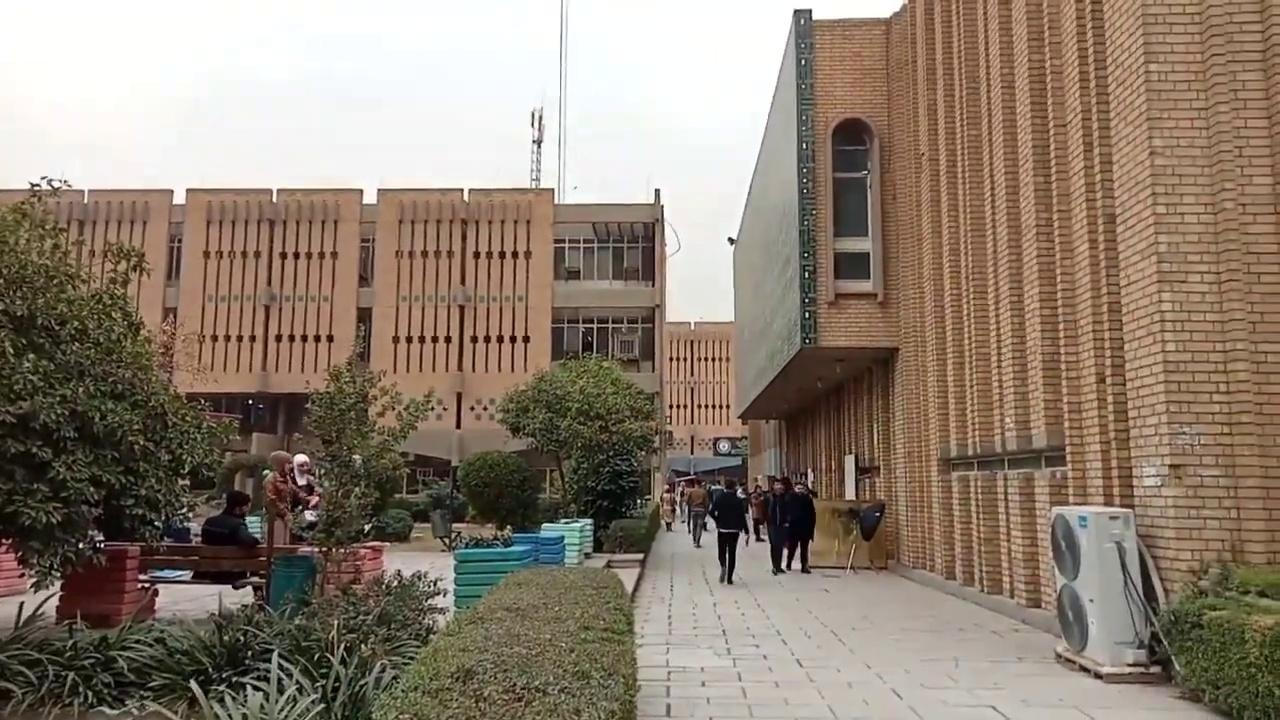person: (261, 450, 316, 544), (200, 489, 262, 547), (709, 480, 742, 588), (758, 477, 789, 573), (788, 482, 817, 577), (290, 452, 322, 510), (686, 478, 710, 552)
tree: (0, 174, 243, 620), (287, 321, 439, 593), (494, 350, 663, 550), (455, 448, 538, 533), (211, 450, 268, 508), (420, 476, 469, 535)
